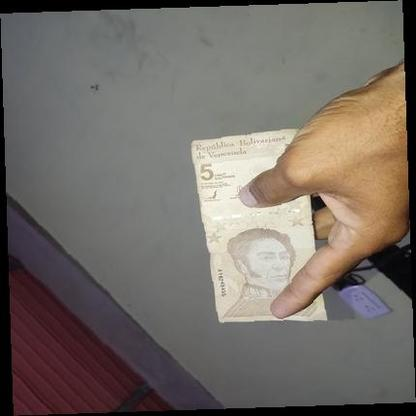five-front-vef: (190, 127, 328, 323)
